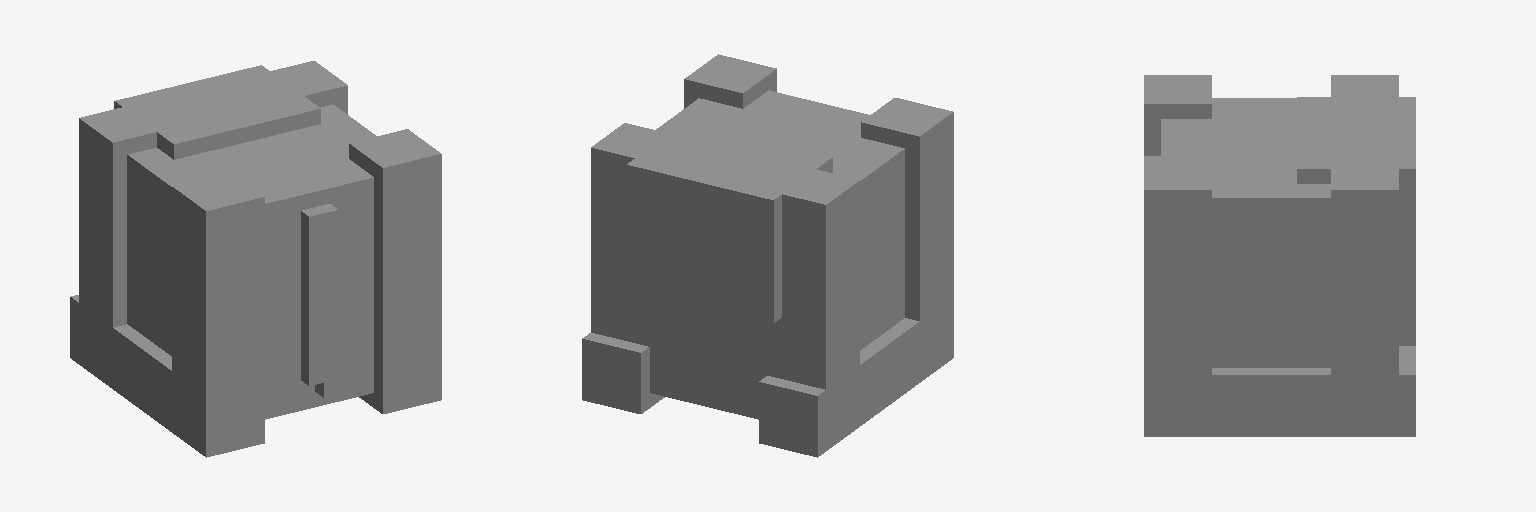
Rendered from blockcow.obj.
The picture shows the model from 3 angles: view 1: azimuth 30°, elevation 25°; view 2: azimuth 150°, elevation 25°; view 3: azimuth 270°, elevation 25°; orthographic projection.
Visible parts, largest first — view 1: Cube; view 2: Cube; view 3: Cube.
Boxes of the visible parts, x1=… form: Cube: x1=70, y1=61, x2=441, y2=457; Cube: x1=582, y1=54, x2=953, y2=457; Cube: x1=1144, y1=75, x2=1415, y2=436.
Size of the model in its own units: 1 by 1 by 1.